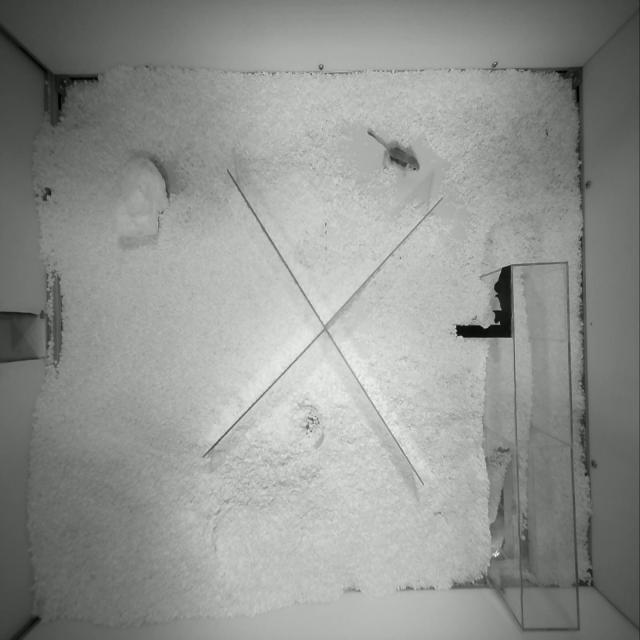pup_v_stripe: (368, 129, 419, 171)
